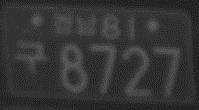1: (123, 14, 143, 40)
2: (121, 45, 153, 96)
7: (152, 46, 182, 97), (90, 43, 118, 95)
8: (57, 43, 88, 94), (101, 13, 121, 40)
경남_O: (51, 12, 96, 37)
구: (14, 40, 47, 73)
